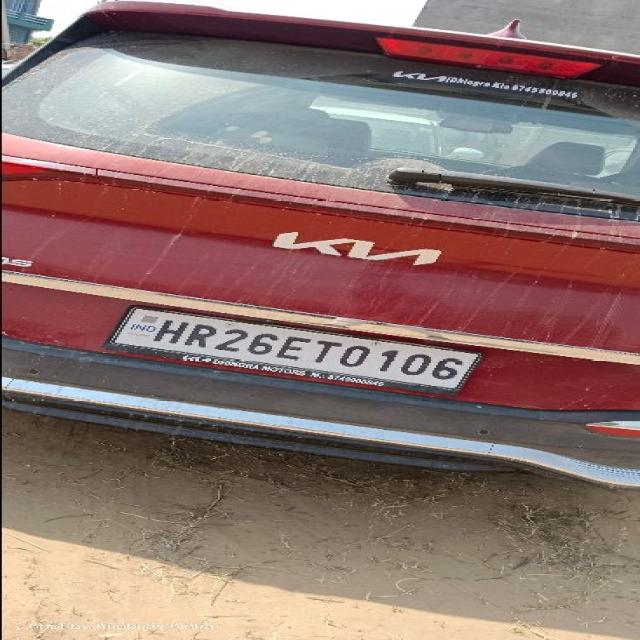license_plate: (101, 304, 485, 396)
